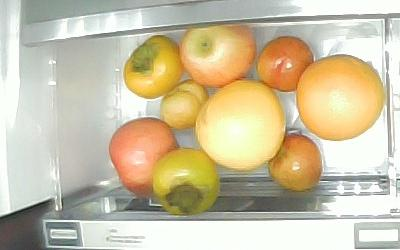apple: (108, 117, 179, 199), (179, 23, 255, 87)
grapefruit: (195, 78, 286, 169), (295, 54, 383, 141)
persimmon: (151, 148, 220, 215), (123, 34, 182, 99)
prune: (257, 35, 314, 92), (267, 133, 322, 191), (159, 78, 208, 128)
